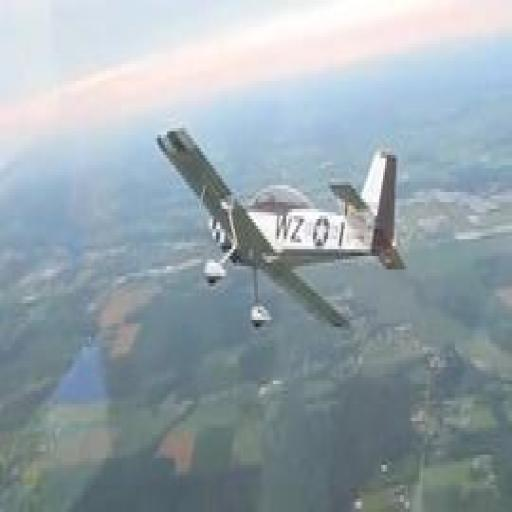aircraft: (157, 128, 406, 330)
